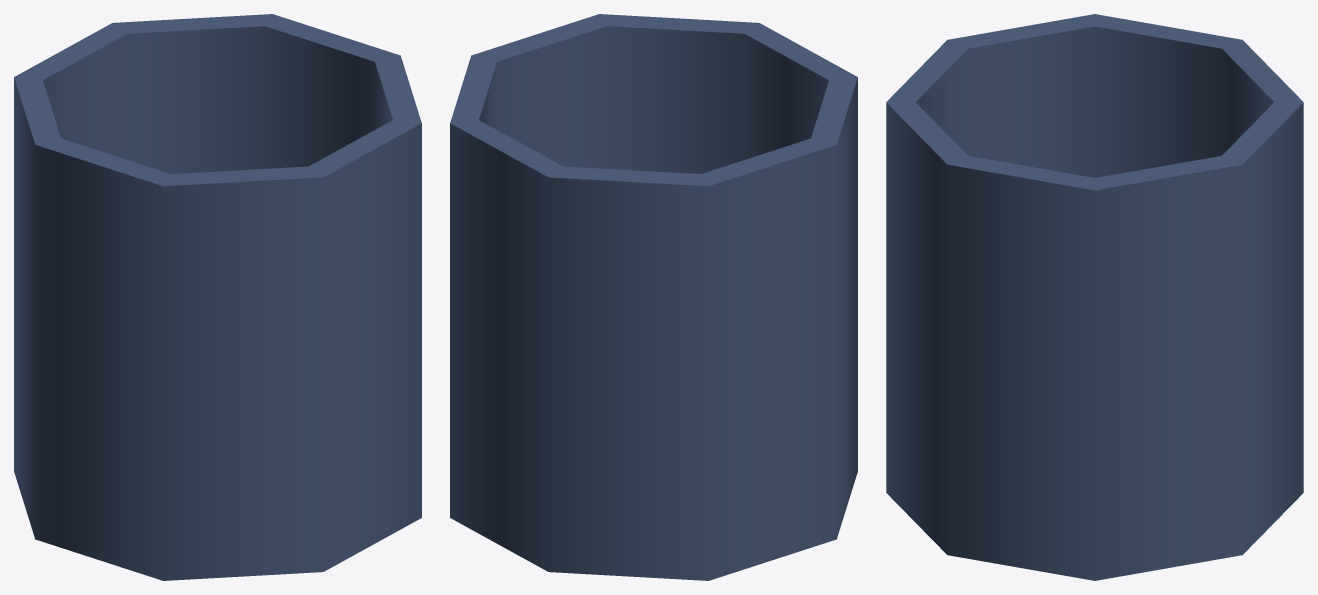
Rendered from 23_prop_pencil case.FBX.
3 renders of one model, left to right at view 1: azimuth 30°, elevation 25°; view 2: azimuth 150°, elevation 25°; view 3: azimuth 270°, elevation 25°, orthographic.
Parts seen in each view (by area): view 1: prop_pencil case; view 2: prop_pencil case; view 3: prop_pencil case.
Part boxes in pixels (x1,y1,x2,y2): prop_pencil case: [14, 14, 421, 580]; prop_pencil case: [450, 14, 857, 580]; prop_pencil case: [886, 14, 1303, 580].
Bounding box in the file's own units: 9.64 × 9.95 × 9.64.
